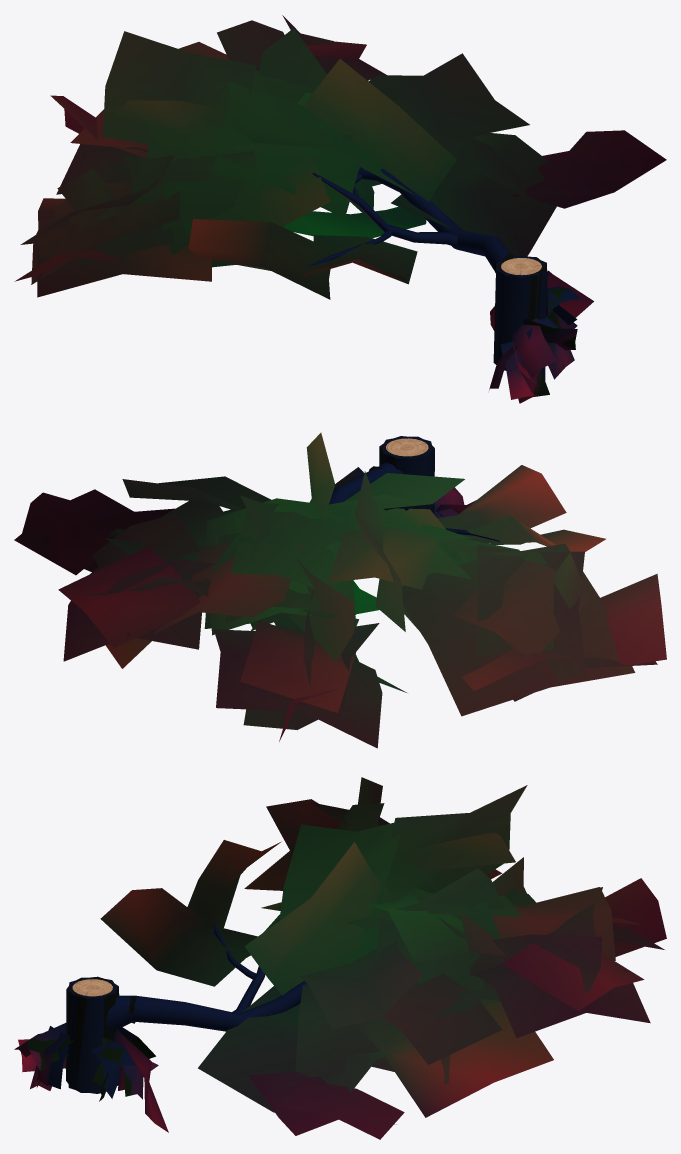
File: obj_harvests_trees_pine01_p06.fbx
3 renders of one model, top to bottom at view 1: azimuth 30°, elevation 25°; view 2: azimuth 150°, elevation 25°; view 3: azimuth 270°, elevation 25°, orthographic. The views are drawn at different scales.
Visible parts, largest first — view 1: obj_harvests_trees_pine01_p06; view 2: obj_harvests_trees_pine01_p06; view 3: obj_harvests_trees_pine01_p06.
Part boxes in pixels (x1,y1,x2,y2): obj_harvests_trees_pine01_p06: [14, 15, 666, 403]; obj_harvests_trees_pine01_p06: [14, 432, 666, 748]; obj_harvests_trees_pine01_p06: [14, 777, 666, 1139].
Bounding box in the file's own units: 54.76 × 19.99 × 49.88.
